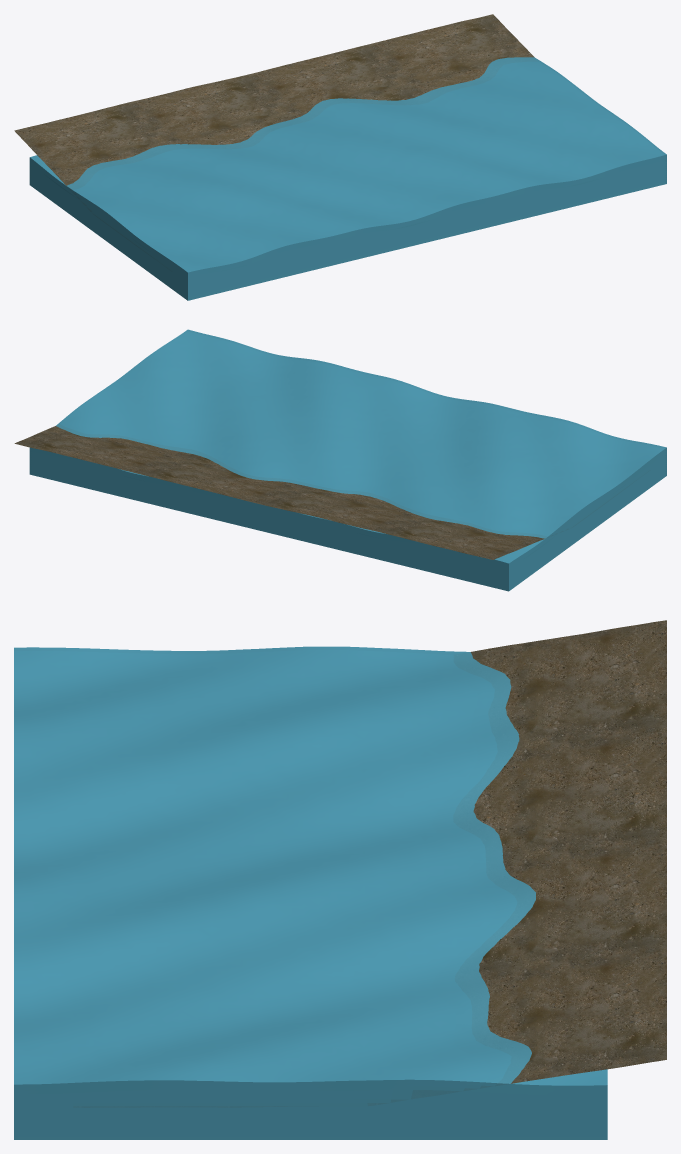
The model's file is storm-surge.glb.
3 views of the same model, one above another, from view 1: azimuth 30°, elevation 25°; view 2: azimuth 150°, elevation 25°; view 3: azimuth 270°, elevation 25° (orthographic). The views are drawn at different scales.
Visible parts, largest first — view 1: Surge_Water, Surge_Coast; view 2: Surge_Water, Surge_Coast; view 3: Surge_Water, Surge_Coast.
Part boxes in pixels (<box>): Surge_Water: <box>29,57,666,300</box>; Surge_Coast: <box>14,14,534,185</box>; Surge_Water: <box>29,329,666,591</box>; Surge_Coast: <box>14,426,545,559</box>; Surge_Water: <box>14,646,607,1139</box>; Surge_Coast: <box>470,620,666,1083</box>.
Size of the model in its own units: 7 by 0.6029 by 4.4.
Materials: 2 (1 with a texture image).
